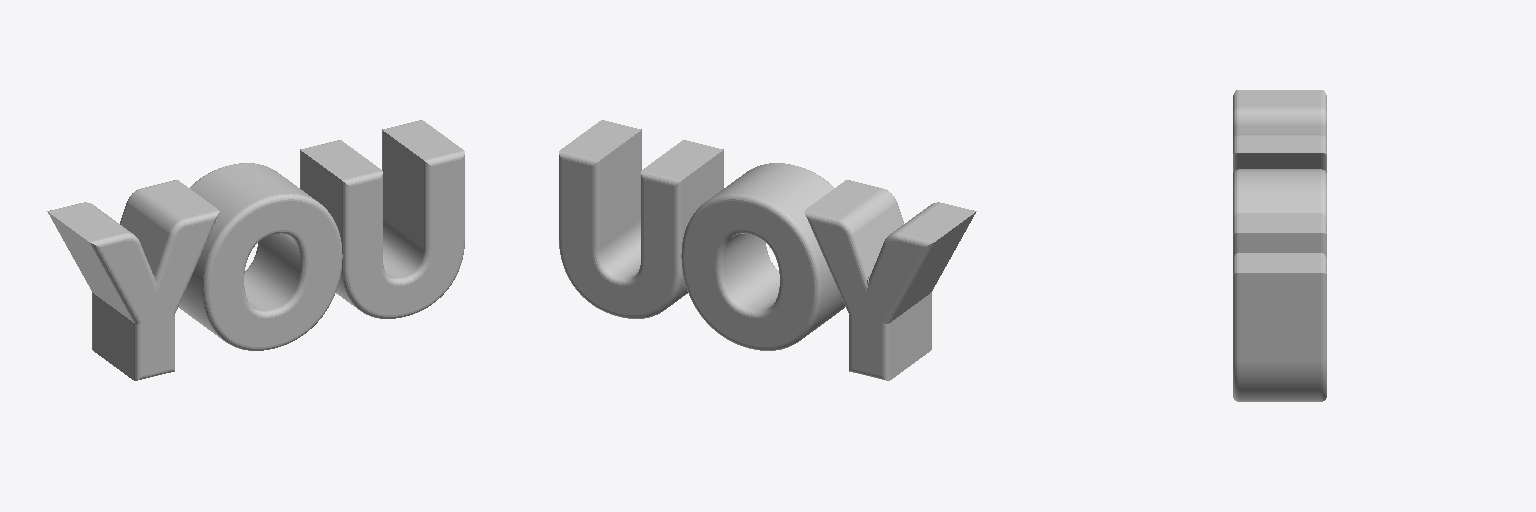
Rendered from you.obj.
3 views of the same model, side by side, from view 1: azimuth 30°, elevation 25°; view 2: azimuth 150°, elevation 25°; view 3: azimuth 270°, elevation 25° (orthographic).
Parts seen in each view (by area): view 1: Text; view 2: Text; view 3: Text.
Part boxes in pixels (x1,y1,x2,y2): Text: (47, 120, 464, 380); Text: (559, 120, 976, 380); Text: (1233, 90, 1326, 401).
Bounding box in the file's own units: 1.47 × 0.5732 × 0.32.